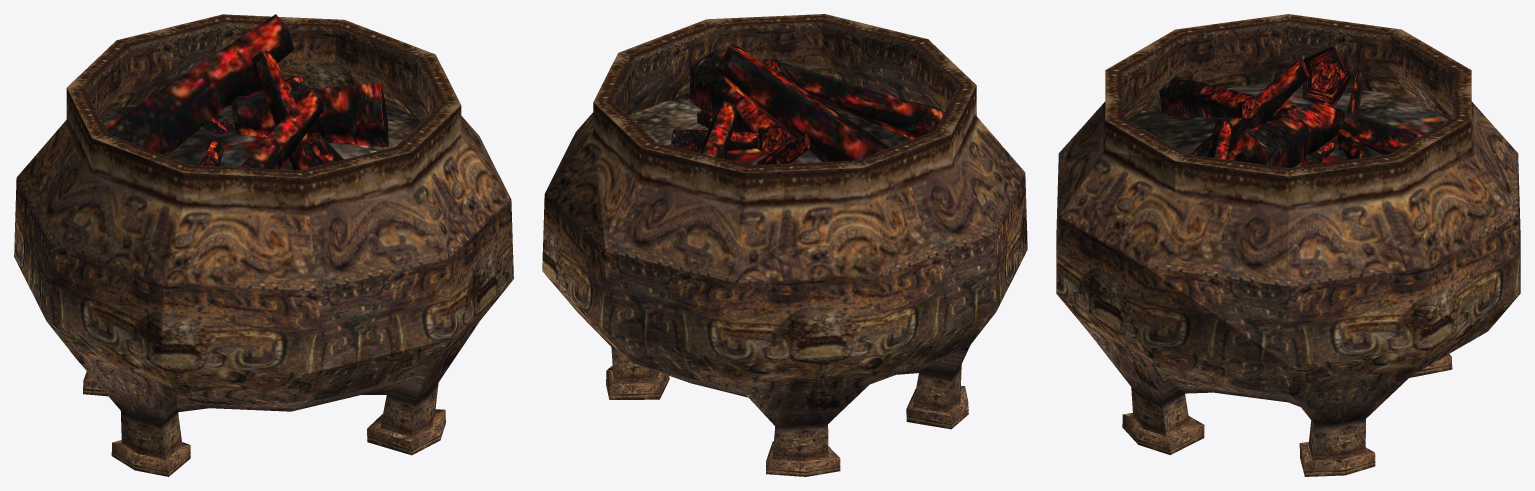
Rendered from Stove01.FBX.
The picture shows the model from 3 angles, left to right: view 1: azimuth 30°, elevation 25°; view 2: azimuth 150°, elevation 25°; view 3: azimuth 270°, elevation 25°; orthographic projection. The views are drawn at different scales.
Visible parts, largest first — view 1: stove005, stove006, stove004, stove002, stove003, nder02, stove008, stove001, nder08, Object01, stove007, nder05 (+2 smaller); view 2: stove007, stove006, stove008, stove001, stove002, stove005, nder02, nder05, Object01, nder08, Object14, nder10 (+1 smaller); view 3: stove001, stove002, stove003, stove006, stove008, stove005, Object01, stove007, nder08, nder05, nder07, nder02 (+3 smaller).
Part boxes in pixels (x1,y1,x2,y2): stove005: [161, 147, 448, 394]; stove006: [14, 87, 209, 476]; stove004: [176, 259, 450, 411]; stove002: [396, 54, 511, 258]; stove003: [362, 200, 513, 455]; nder02: [105, 14, 293, 155]; stove008: [106, 14, 344, 110]; stove001: [283, 20, 435, 118]; nder08: [231, 82, 388, 147]; Object01: [100, 88, 424, 169]; stove007: [67, 40, 130, 396]; nder05: [240, 89, 323, 169]; stove007: [604, 160, 884, 476]; stove006: [856, 85, 1027, 429]; stove008: [593, 101, 749, 328]; stove001: [542, 53, 669, 399]; stove002: [618, 14, 827, 115]; stove005: [821, 14, 975, 111]; nder02: [718, 46, 889, 161]; nder05: [780, 62, 944, 139]; Object01: [629, 92, 941, 165]; nder08: [690, 48, 790, 152]; Object14: [698, 101, 736, 159]; nder10: [671, 128, 759, 152]; stove001: [1288, 154, 1520, 476]; stove002: [1059, 117, 1288, 364]; stove003: [1056, 216, 1289, 454]; stove006: [1176, 14, 1408, 96]; stove008: [1390, 70, 1520, 282]; stove005: [1056, 29, 1186, 227]; Object01: [1128, 82, 1448, 166]; stove007: [1390, 29, 1520, 377]; nder08: [1225, 100, 1336, 167]; nder05: [1159, 76, 1261, 118]; nder07: [1189, 58, 1309, 156]; nder02: [1302, 45, 1352, 106].
Size of what is drawn, in the model's own units: 51.01 by 41.95 by 48.51.
3 materials, 3 textured.
